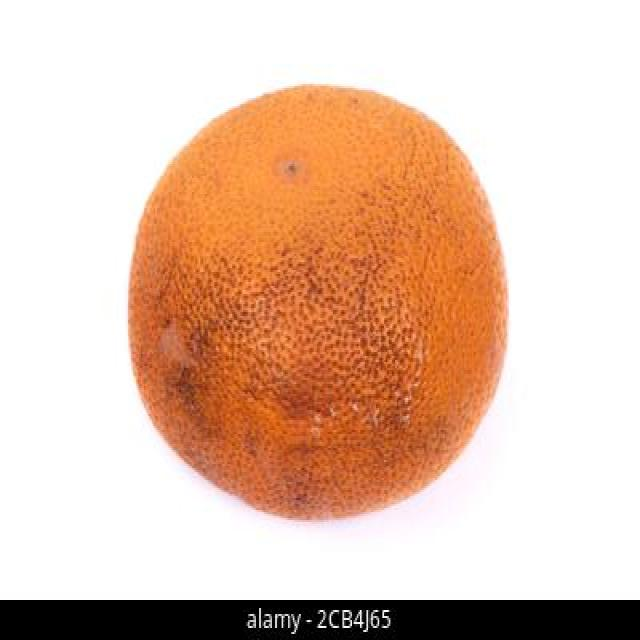overripe: (124, 80, 515, 525)
